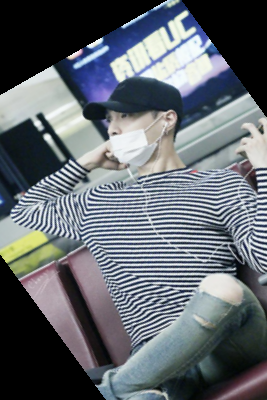mask_weared_incorrect: (84, 68, 203, 175)
